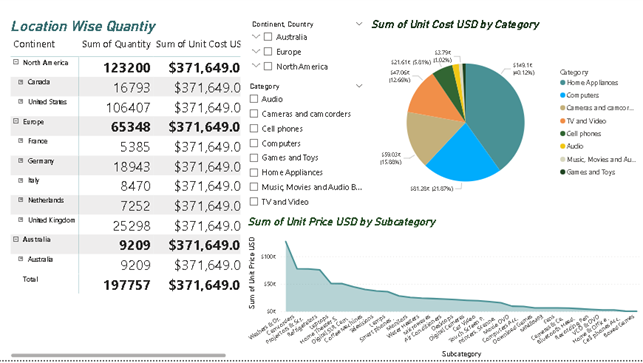

Layout of this report page (visuals, bound fields, positions):
{"tool":"powerbi","page":{"name":"Visualization","canvas":[1280,720],"ordinal":0},"visuals":[{"type":"pivotTable","title":"Location Wise Quantiy ","fields":{"Rows":["Customers.Continent Hierarchy.Continent","Customers.Continent Hierarchy.Country","Customers.Continent Hierarchy.State","Customers.Continent Hierarchy.City"],"Values":["Sum(Sales_fact.Quantity)","Sum(Products.Unit Cost USD)"]},"box":[22,42.4,491.7,677.6],"z":0},{"type":"areaChart","fields":{"Y":["Sum(Products.Unit Price USD)"],"Category":["Products.Subcategory"]},"box":[513.7,433.2,766.8,286.8],"z":1000},{"type":"slicer","fields":{"Values":["Products.Category"]},"box":[513.7,165.4,222.4,267.8],"z":2000},{"type":"pieChart","fields":{"Y":["Sum(Products.Unit Cost USD)"],"Category":["Products.Category"]},"box":[736.1,42.4,544.4,390.7],"z":3000},{"type":"slicer","fields":{"Values":["Customers.Continent Hierarchy.Continent","Customers.Continent Hierarchy.Country"]},"box":[513.7,42.4,222.4,122.9],"z":4000}]}

Visuals, with their boxes in screenshot pixels (x1, y1, x2, y2), scaled from the page's 1280x720 canvas onto the 643x363 screenshot:
"Location Wise Quantiy " pivotTable: {"x1": 11, "y1": 21, "x2": 258, "y2": 362}
areaChart - Sum(Products.Unit Price USD) x Products.Subcategory: {"x1": 258, "y1": 218, "x2": 642, "y2": 362}
slicer - Products.Category: {"x1": 258, "y1": 83, "x2": 370, "y2": 218}
pieChart - Sum(Products.Unit Cost USD) x Products.Category: {"x1": 370, "y1": 21, "x2": 642, "y2": 218}
slicer - Customers.Continent Hierarchy.Continent x Customers.Continent Hierarchy.Country: {"x1": 258, "y1": 21, "x2": 370, "y2": 83}
